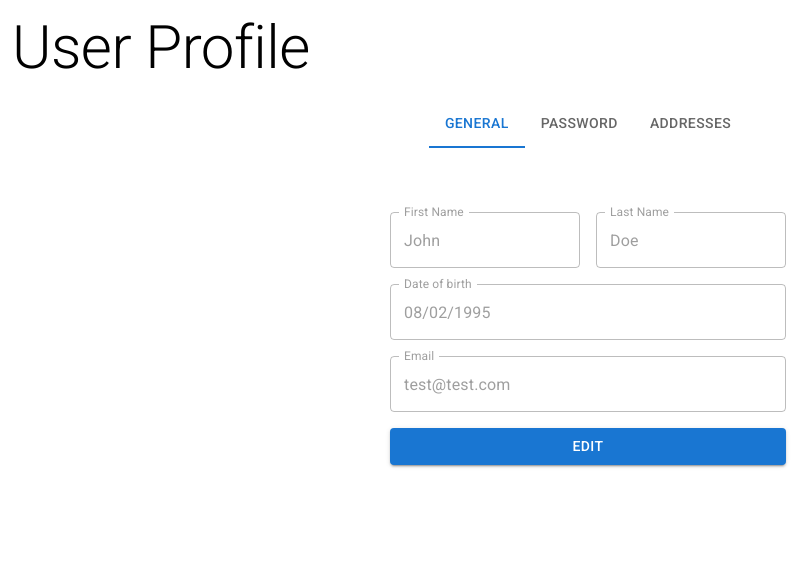
UserProfilePage › tab Addresses opened correctly
Click the tab "Addresses": (690, 124) [634,100,747,148]
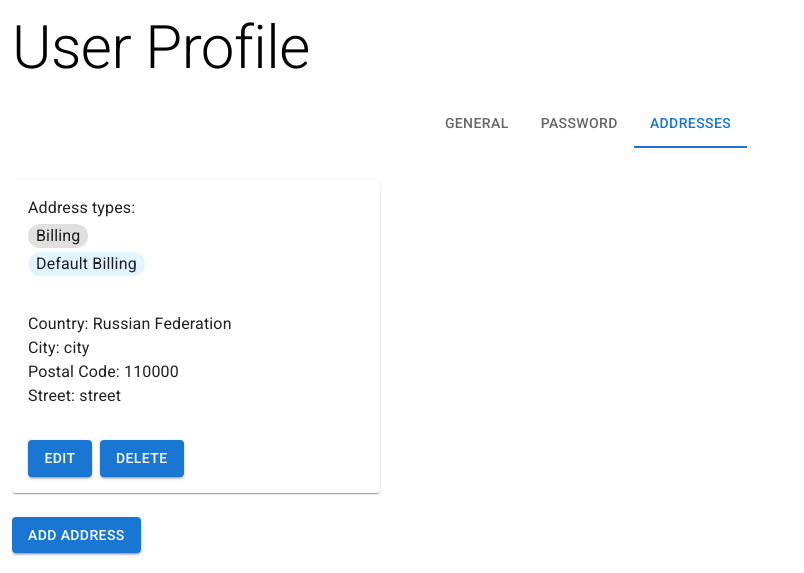
Now the element with test id "addresses" is shown, box [12,180,380,553]
